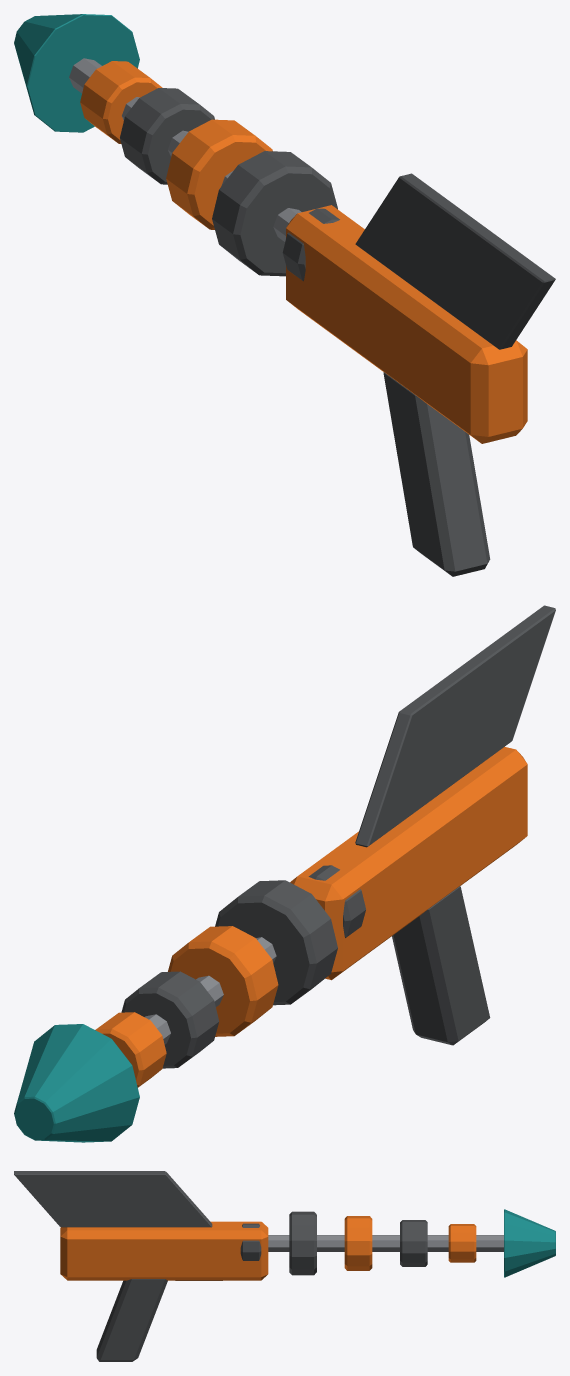
Rendered from beamer.glb.
3 views of the same model, one above another, from view 1: azimuth 30°, elevation 25°; view 2: azimuth 150°, elevation 25°; view 3: azimuth 270°, elevation 25° (orthographic). The views are drawn at different scales.
Parts seen in each view (by area): view 1: beamer; view 2: beamer; view 3: beamer.
Part boxes in pixels (x1,y1,x2,y2): beamer: (14,14,555,576); beamer: (14,605,555,1142); beamer: (14,1171,555,1361).
Size of the model in its own units: 0.0838 by 0.249 by 0.66.
